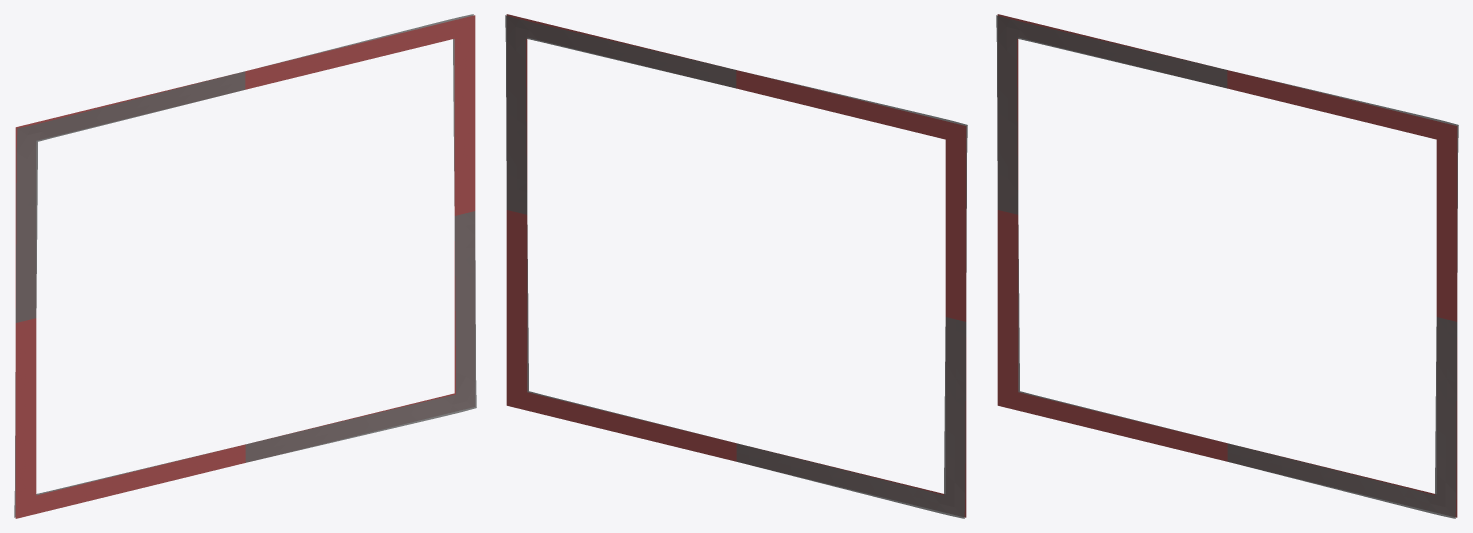
The model's file is warping-box-145-178-7-8-318.glb.
3 views of the same model, side by side, from view 1: azimuth 30°, elevation 25°; view 2: azimuth 150°, elevation 25°; view 3: azimuth 330°, elevation 25° (orthographic).
Parts seen in each view (by area): view 1: undeformed cross-section, cross-section with warping; view 2: undeformed cross-section, cross-section with warping; view 3: undeformed cross-section, cross-section with warping.
Boxes of the visible parts, x1,y1,x2,y2 form: undeformed cross-section: (15, 15, 475, 518); cross-section with warping: (14, 14, 476, 517); undeformed cross-section: (506, 14, 966, 517); cross-section with warping: (505, 15, 967, 518); undeformed cross-section: (997, 14, 1457, 517); cross-section with warping: (996, 15, 1458, 518).
Size of the model in its own units: 0.178 by 0.145 by 0.00273.
